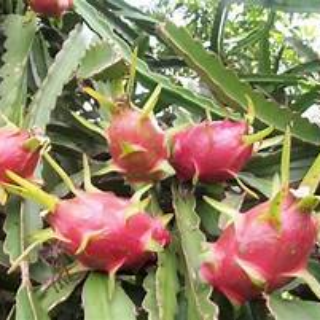thanh_long: (21, 178, 178, 276), (198, 181, 317, 305), (93, 96, 170, 179), (167, 115, 264, 177)
